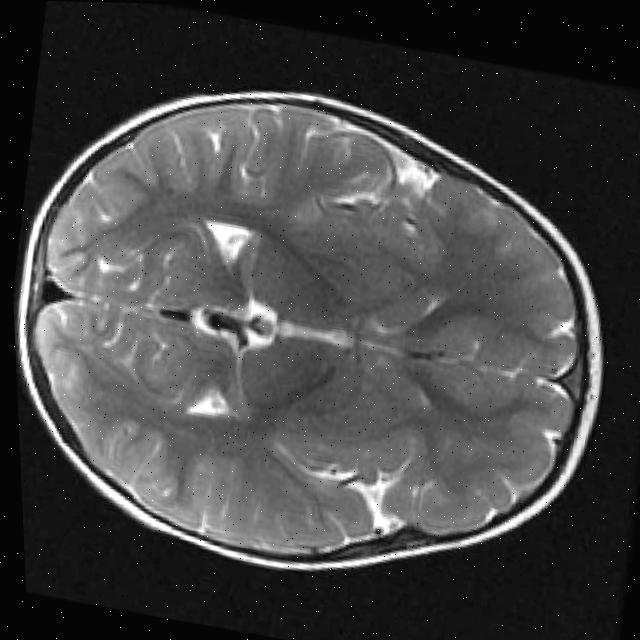NoTumor: (2, 38, 640, 625)
